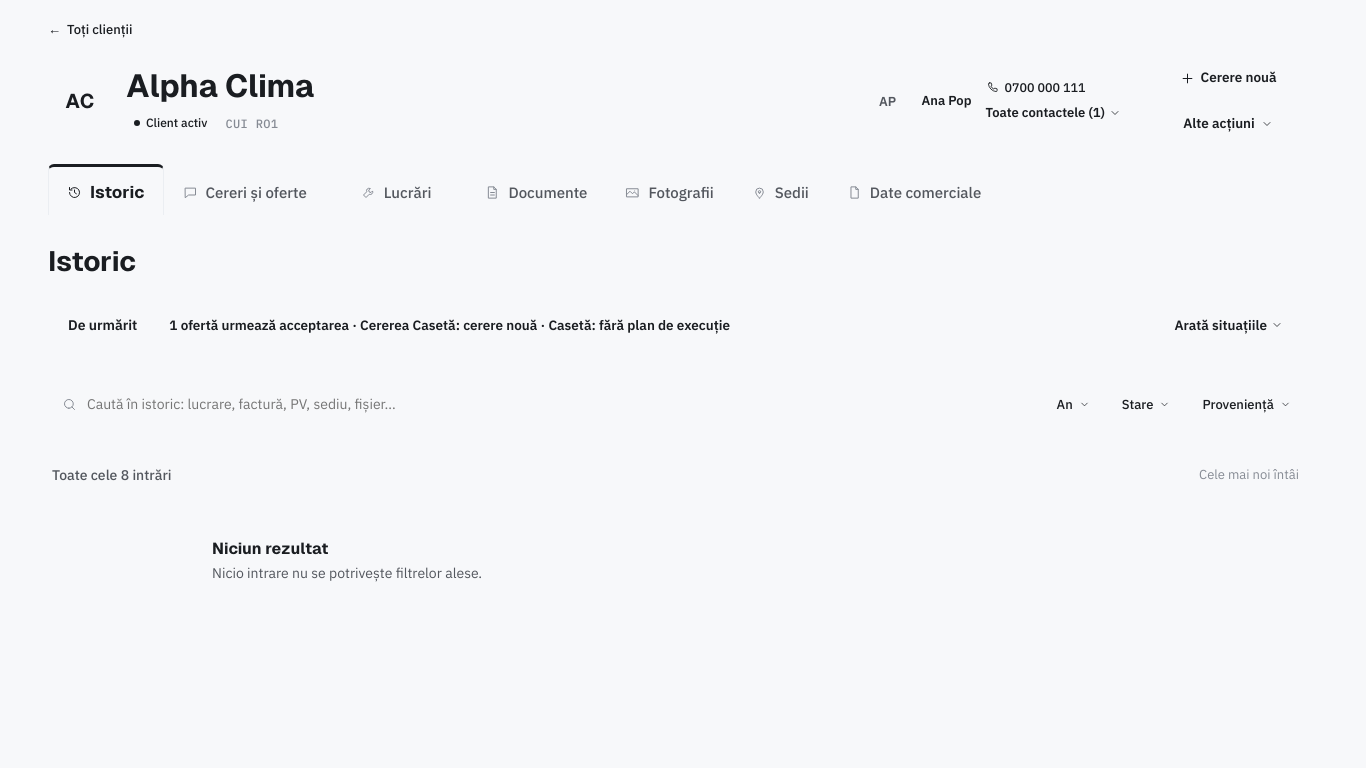
it: De urmărit · one control, opened on purpose (649:14128) › mixed attention: each situation once, warm, with its own destination
This screenshot has width=1366, height=768.
What coordinates should you click on to do the following:
click the button "De urmărit"
I would click on:
 (676, 325)
Its box is x1=48 y1=297 x2=1303 y2=353.
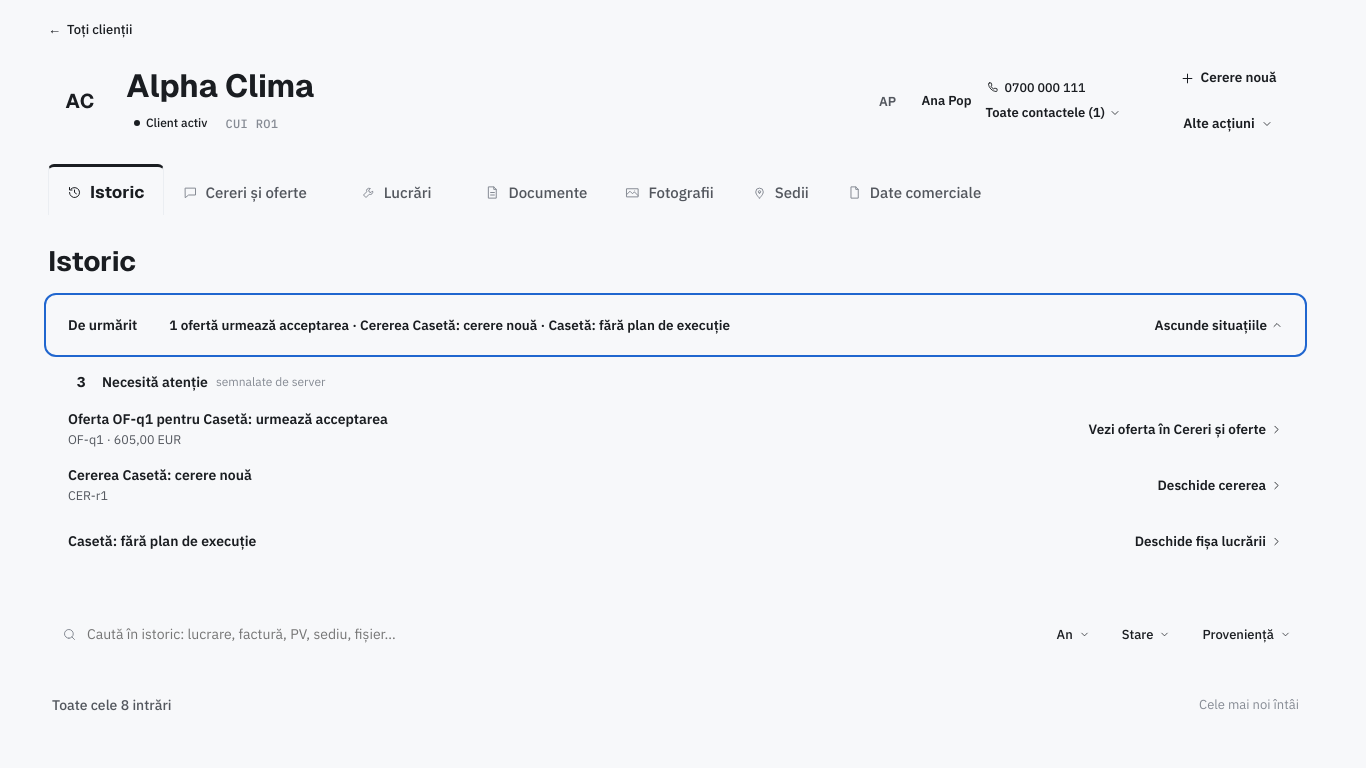
Expected: the text "Casetă: fără plan de execuție" is shown, x1=68 y1=532 x2=256 y2=550
